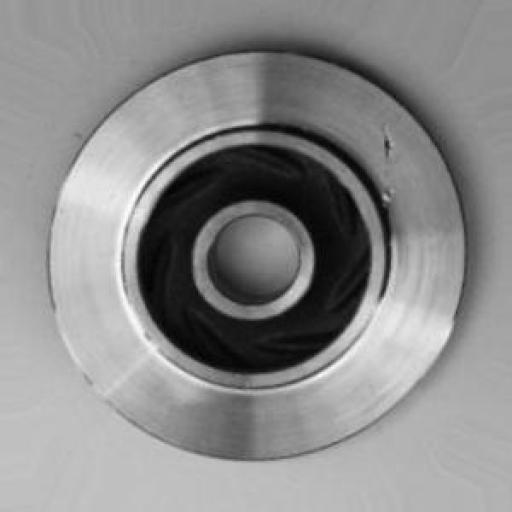defect: (366, 112, 414, 239)
